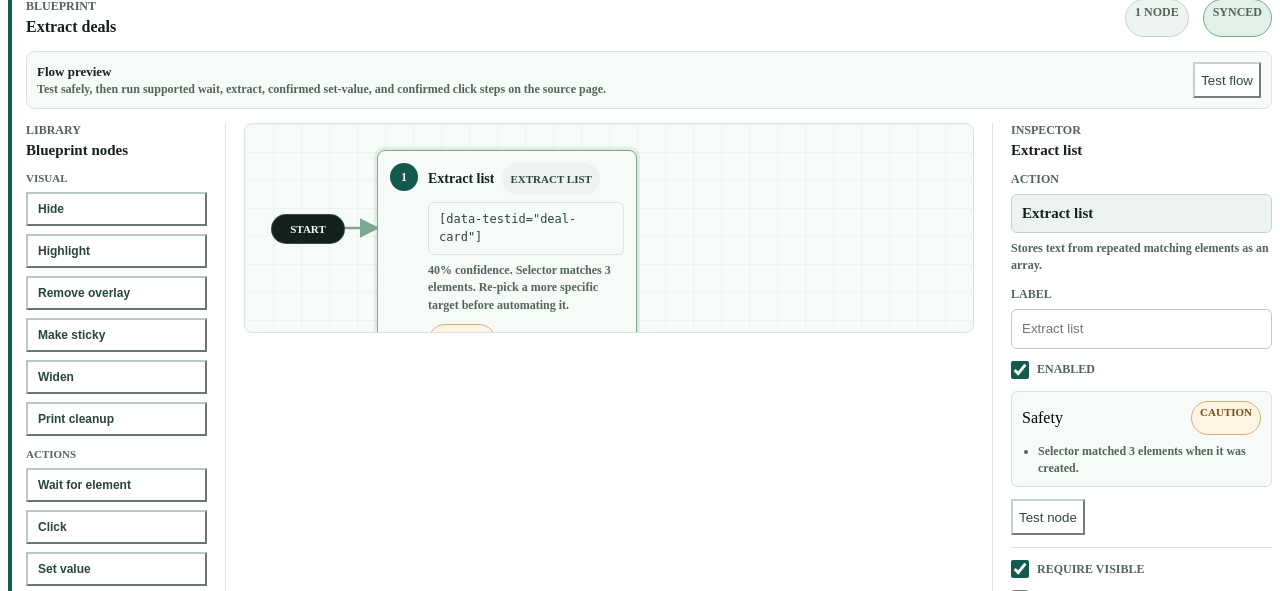
Scenario: BlueprintPreview › renders source-page sample rows for extract-list node tests
Click the button "Test node".
click(1048, 517)  # box [1011,499,1085,535]
(page scrolled)
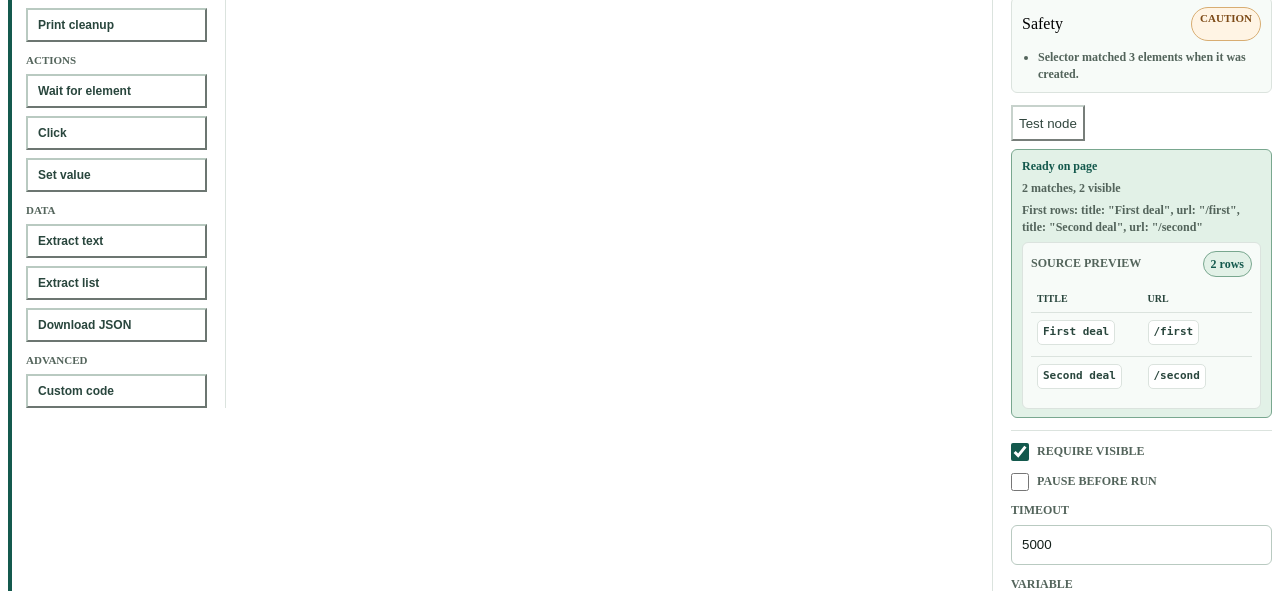
Now the table named "Source list preview" is shown, box [1031,285,1252,400]
Now the text "2 rows" is shown, box [1202,251,1252,277]
Now the text "First deal" is shown, box [1037,320,1115,345]
